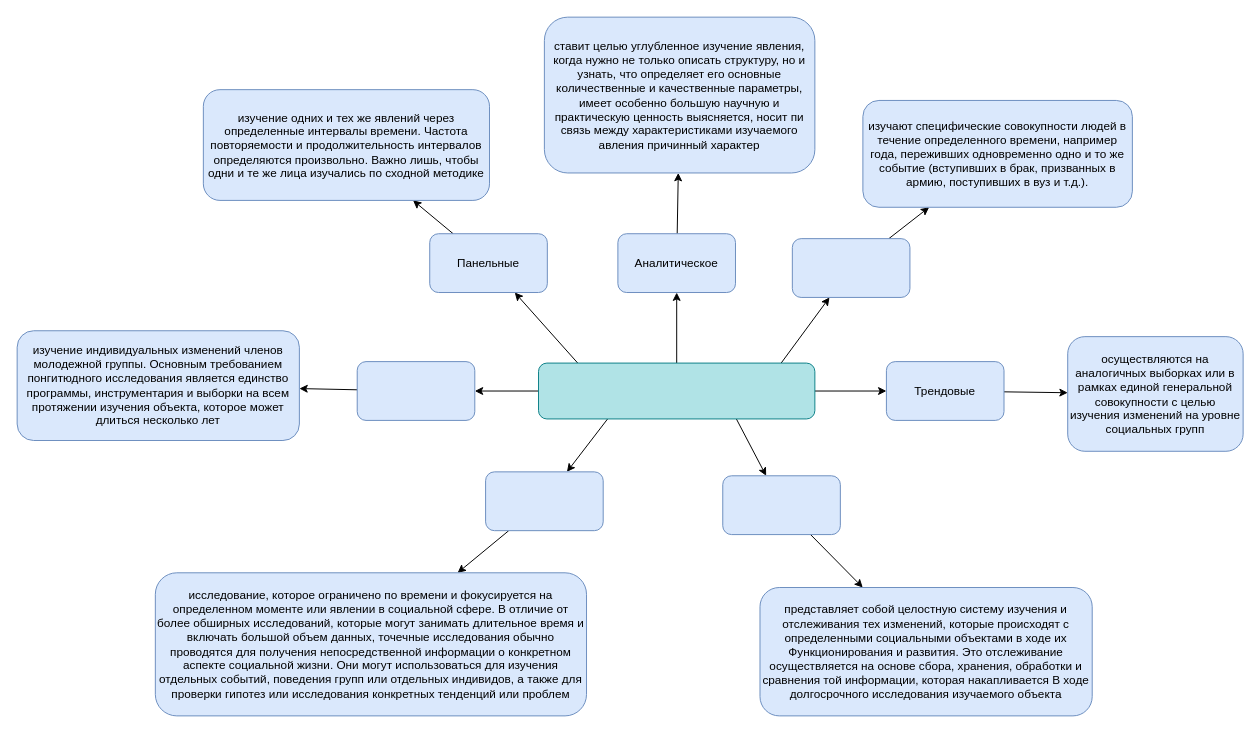
This 1260x733 diagram has some shape labels left out. The centre of each missing label's shape, as x and y in pixels:
"Виды социологических исследований" belongs at pixel 676 390.
"Когортные" belongs at pixel 850 267.
"Логитюдное" belongs at pixel 415 390.
"Социальный мониторинг" belongs at pixel 781 505.
"Точечное" belongs at pixel 544 501.
